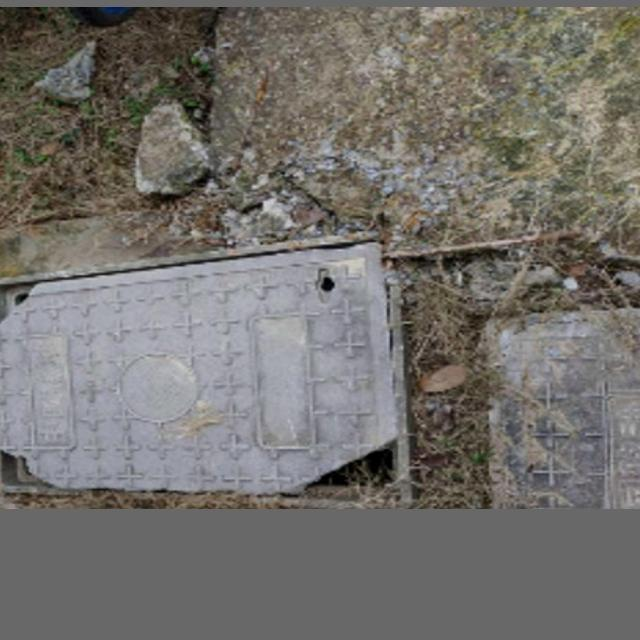broke: (0, 274, 423, 495)
